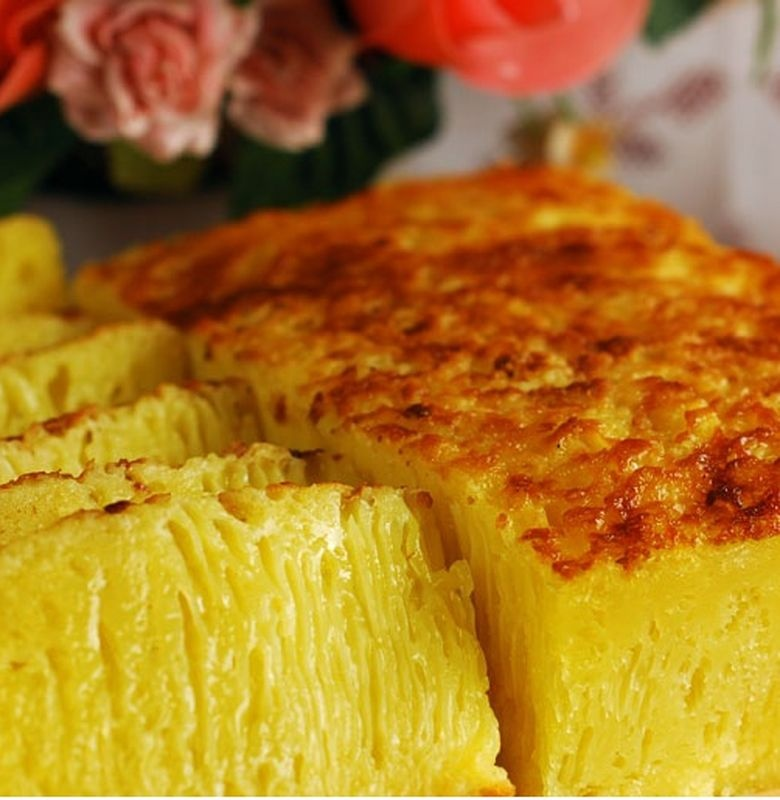bika_ambon: (14, 469, 502, 800)
